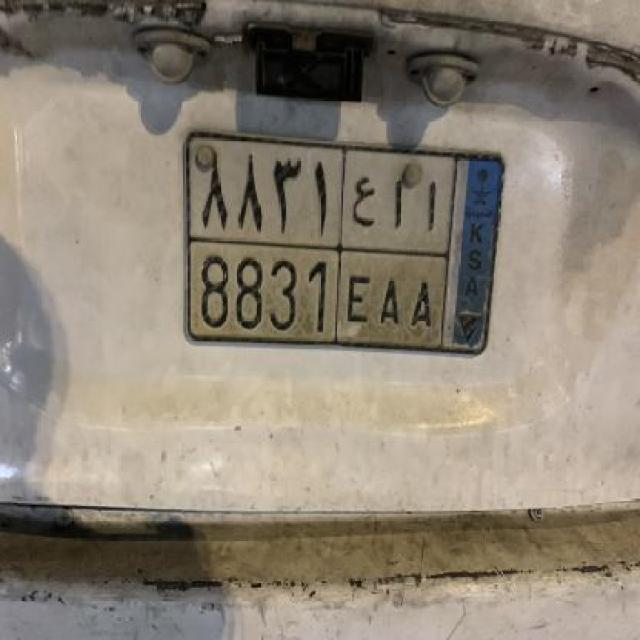license_plate: (178, 122, 510, 362)
